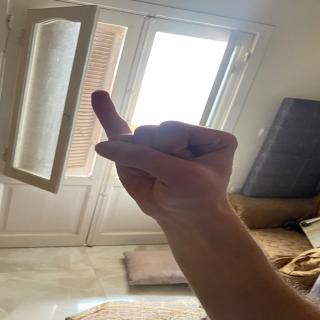MEEM: (76, 83, 256, 213)
